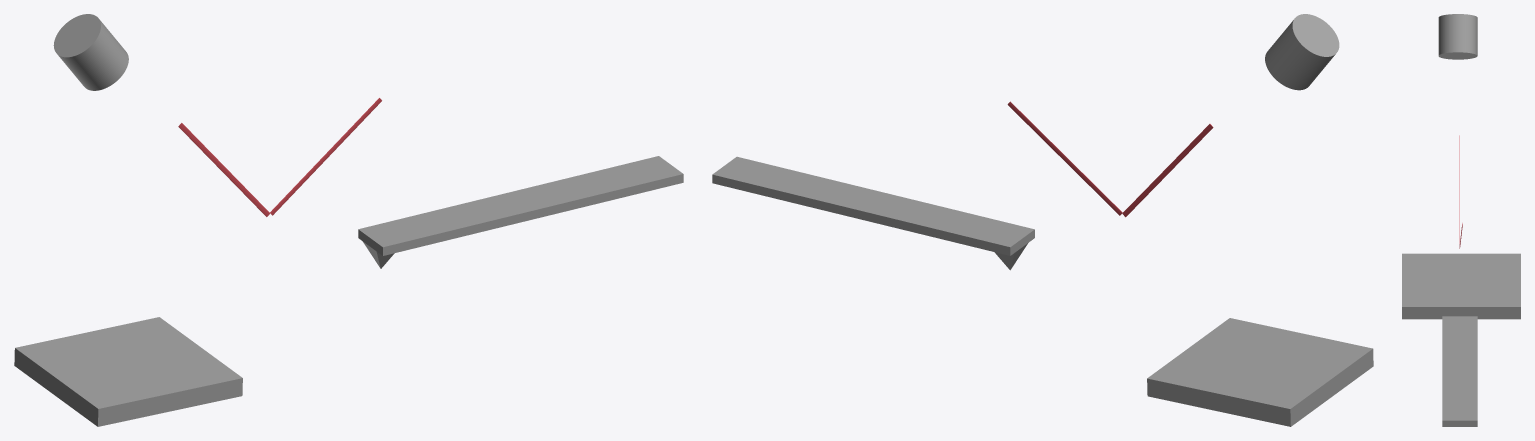
File: disassemble.glb
3 views of the same model, side by side, from view 1: azimuth 30°, elevation 25°; view 2: azimuth 150°, elevation 25°; view 3: azimuth 270°, elevation 25° (orthographic). The views are drawn at different scales.
Size of the model in its own units: 0.1551 by 0.0909 by 0.0365.
